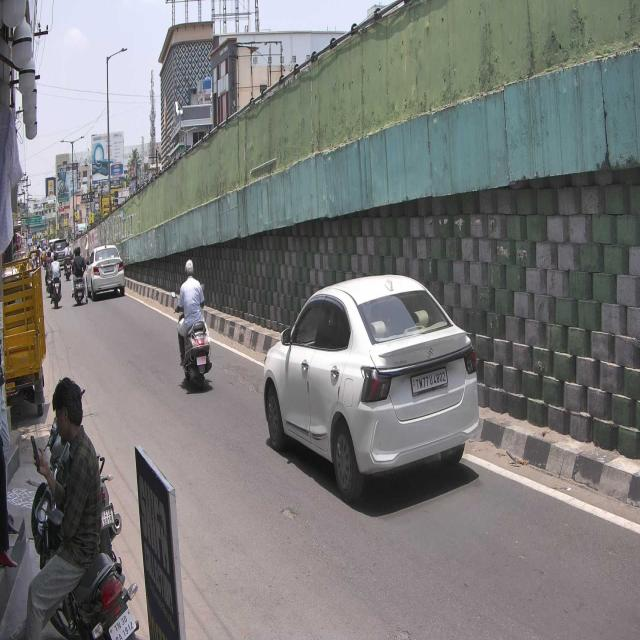single_rider: (171, 258, 212, 391)
